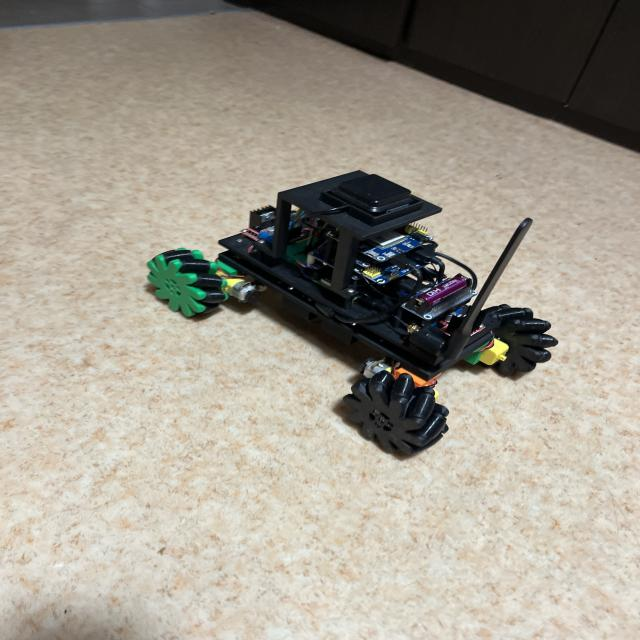robot: (148, 171, 558, 455)
